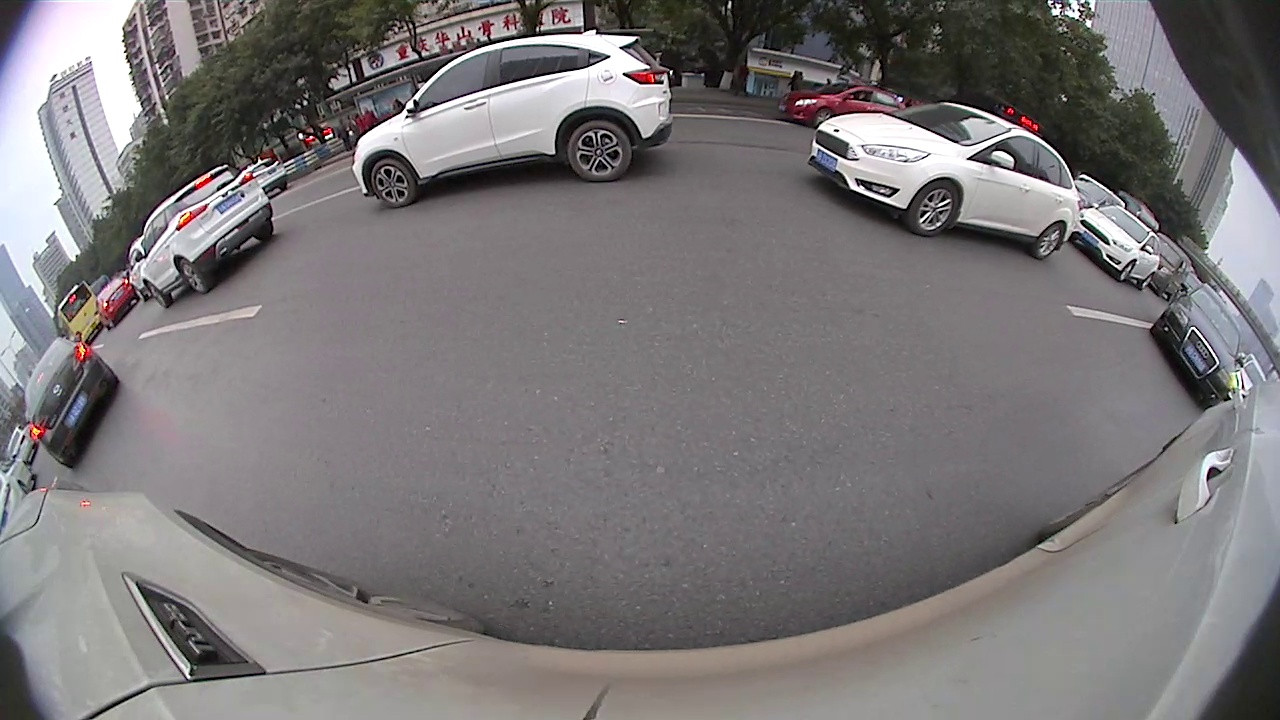car: (351, 29, 673, 210), (806, 98, 1083, 260), (136, 163, 277, 308), (23, 337, 117, 467), (1152, 280, 1242, 412), (1070, 202, 1160, 290), (779, 83, 905, 128), (1143, 235, 1192, 300), (91, 277, 141, 331)
front: (904, 177, 964, 238), (370, 157, 416, 209), (144, 278, 173, 308), (1117, 257, 1138, 285), (811, 106, 836, 127)
rear: (565, 119, 633, 184), (175, 255, 218, 295), (1029, 219, 1067, 259)
